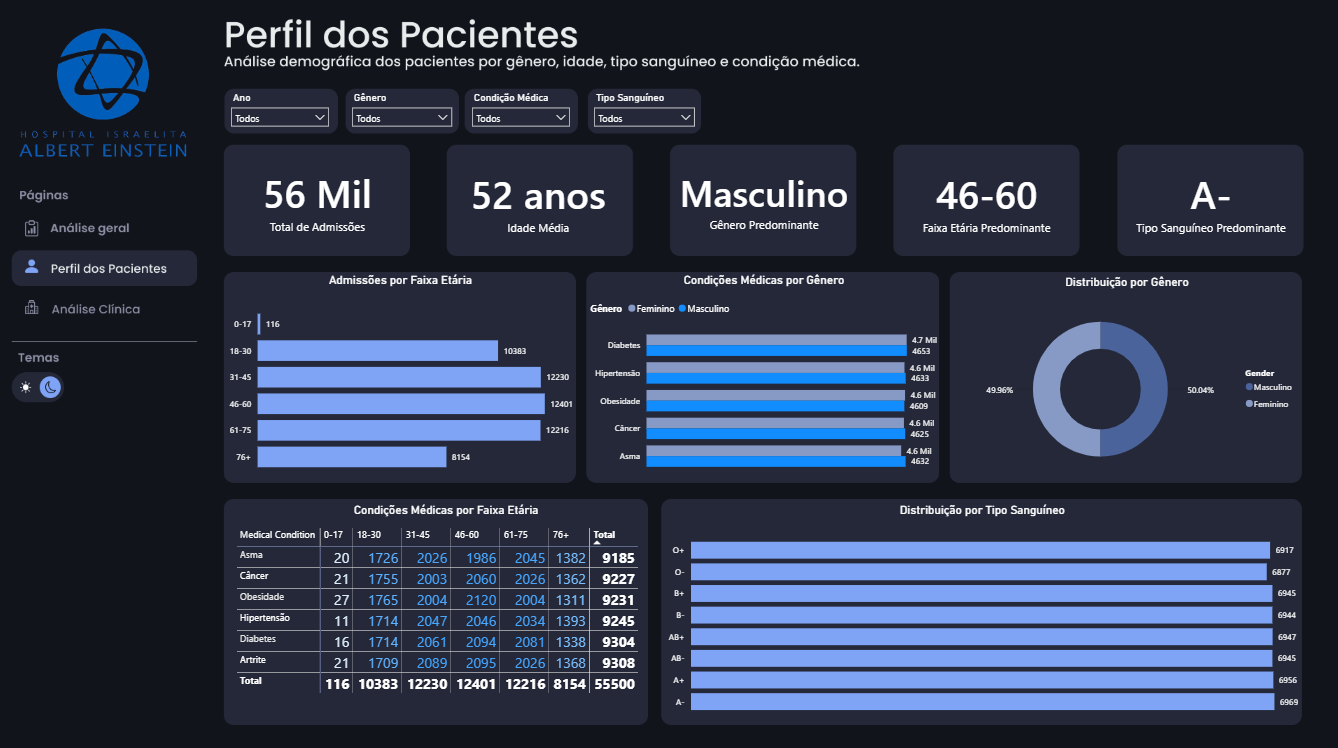

The page's visual inventory and layout, read from the dashboard file:
{"tool":"powerbi","page":{"name":"Perfil dos Pacientes","canvas":[1920,1080],"ordinal":1},"visuals":[{"type":"slicer","fields":{"Values":["healthcare_dataset.Admission Year"]},"box":[324.2,127.5,160,55.8],"z":0},{"type":"slicer","fields":{"Values":["healthcare_dataset.Gender"]},"box":[496.7,127.5,162.5,55.8],"z":1000},{"type":"slicer","fields":{"Values":["healthcare_dataset.Medical Condition"]},"box":[668.3,127.5,160,55.8],"z":2000},{"type":"cardVisual","fields":{"Data":["Medidas.Idade Média Texto"]},"box":[641.1,211.1,264.4,153.3],"z":3000},{"type":"cardVisual","fields":{"Data":["Medidas.Gênero Mais Frequente"]},"box":[942.5,198.8,306.2,176.2],"z":4000},{"type":"cardVisual","fields":{"Data":["Medidas.Faixa Etária Mais Frequente"]},"box":[1281.2,211.2,265,153.8],"z":5000},{"type":"barChart","title":"Admissões por Faixa Etária","fields":{"Category":["healthcare_dataset.Faixa Etária"],"Y":["Medidas.Total de Admissões"]},"box":[324.3,391.4,504.3,298.6],"z":6000},{"type":"barChart","title":"Distribuição por Tipo Sanguíneo","fields":{"Category":["healthcare_dataset.Blood Type"],"Y":["Medidas.Total de Admissões"]},"box":[951.2,720,912.5,313.8],"z":7000},{"type":"clusteredBarChart","title":"Condições Médicas por Gênero","fields":{"Category":["healthcare_dataset.Medical Condition"],"Series":["healthcare_dataset.Gender"],"Y":["Medidas.Total de Admissões"]},"box":[842.5,390.8,505.8,299.2],"z":8000},{"type":"pivotTable","title":"Condições Médicas por Faixa Etária","fields":{"Columns":["healthcare_dataset.Faixa Etária"],"Rows":["healthcare_dataset.Medical Condition"],"Values":["Medidas.Total de Admissões"]},"box":[336.5,719.6,609.2,315.2],"z":9000},{"type":"slicer","fields":{"Values":["healthcare_dataset.Blood Type"]},"box":[842.5,127.5,164.2,55.8],"z":10000},{"type":"cardVisual","fields":{"Data":["Medidas.Tipo Sanguíneo Predominante"]},"box":[1593.4,212.8,283.3,151.6],"z":11000},{"type":"donutChart","title":"Distribuição por Gênero","fields":{"Category":["healthcare_dataset.Gender"],"Y":["Medidas.Total de Admissões"]},"box":[1363.8,393.8,500,296.2],"z":12000},{"type":"cardVisual","fields":{"Data":["Medidas.Total de Admissões"]},"box":[324.3,211.4,267.1,152.9],"z":13000},{"type":"pageNavigator","box":[53.3,427.8,213.3,33.3],"z":13001},{"type":"pageNavigator","box":[53.3,310,213.3,33.3],"z":13002}]}

Visuals, with their boxes on the page's 1920x1080 design canvas (x1, y1, x2, y2). These are canvas units, not pixel positions in the 1338x748 screenshot, which may show the page scaled, cropped or inside an application window:
slicer - healthcare_dataset.Admission Year: x1=324, y1=128, x2=484, y2=183
slicer - healthcare_dataset.Gender: x1=497, y1=128, x2=659, y2=183
slicer - healthcare_dataset.Medical Condition: x1=668, y1=128, x2=828, y2=183
cardVisual - Medidas.Idade Média Texto: x1=641, y1=211, x2=906, y2=364
cardVisual - Medidas.Gênero Mais Frequente: x1=942, y1=199, x2=1249, y2=375
cardVisual - Medidas.Faixa Etária Mais Frequente: x1=1281, y1=211, x2=1546, y2=365
"Admissões por Faixa Etária" barChart: x1=324, y1=391, x2=829, y2=690
"Distribuição por Tipo Sanguíneo" barChart: x1=951, y1=720, x2=1864, y2=1034
"Condições Médicas por Gênero" clusteredBarChart: x1=842, y1=391, x2=1348, y2=690
"Condições Médicas por Faixa Etária" pivotTable: x1=336, y1=720, x2=946, y2=1035
slicer - healthcare_dataset.Blood Type: x1=842, y1=128, x2=1007, y2=183
cardVisual - Medidas.Tipo Sanguíneo Predominante: x1=1593, y1=213, x2=1877, y2=364
"Distribuição por Gênero" donutChart: x1=1364, y1=394, x2=1864, y2=690
cardVisual - Medidas.Total de Admissões: x1=324, y1=211, x2=591, y2=364
pageNavigator: x1=53, y1=428, x2=267, y2=461
pageNavigator: x1=53, y1=310, x2=267, y2=343
